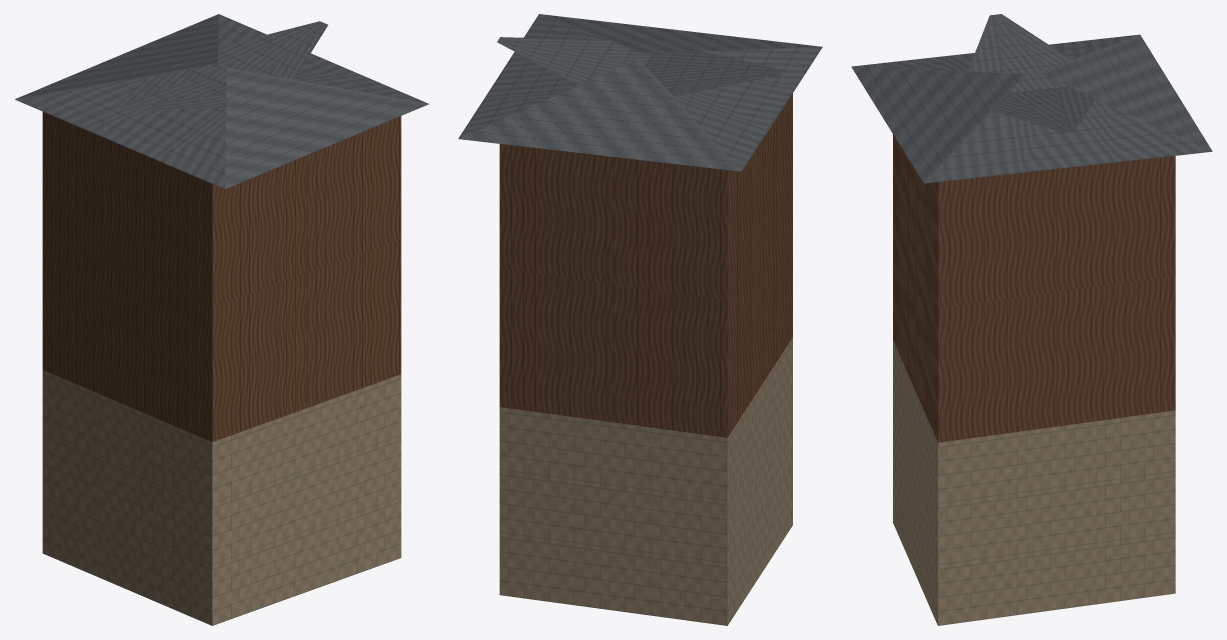
Rendered from bld_c30_-43_415.gltf.
The picture shows the model from 3 angles, left to right: view 1: azimuth 30°, elevation 25°; view 2: azimuth 150°, elevation 25°; view 3: azimuth 270°, elevation 25°; orthographic projection. The views are drawn at different scales.
Parts seen in each view (by area): view 1: bld_c30_-43_415; view 2: bld_c30_-43_415; view 3: bld_c30_-43_415.
Part boxes in pixels (<box>): bld_c30_-43_415: <box>15,14,428,625</box>; bld_c30_-43_415: <box>458,14,822,625</box>; bld_c30_-43_415: <box>851,14,1212,625</box>.
Bounding box in the file's own units: 8.91 × 13.6 × 9.13.
Materials: 3 (3 with a texture image).
